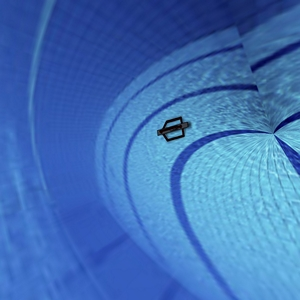submarine: (137, 102, 198, 152)
